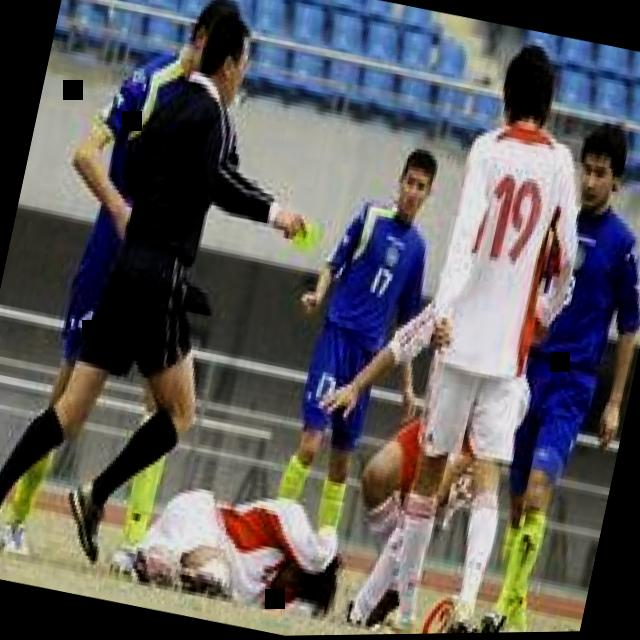Fall-Detected: (106, 436, 365, 630)
